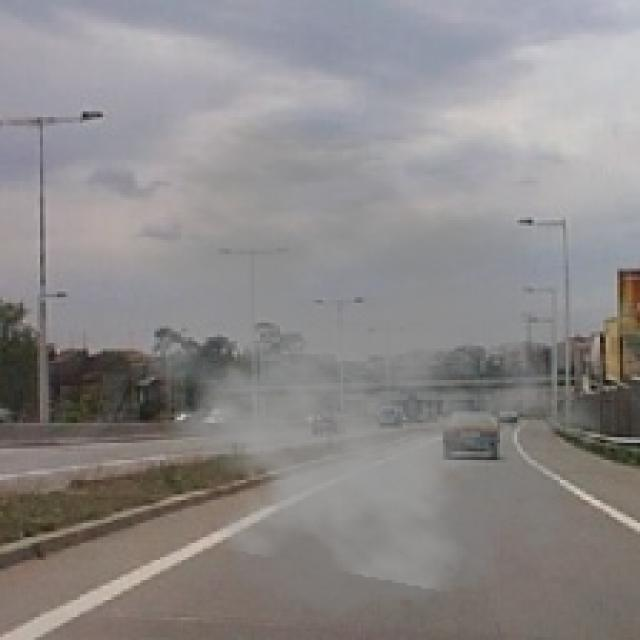Smoke: (88, 114, 623, 629)
